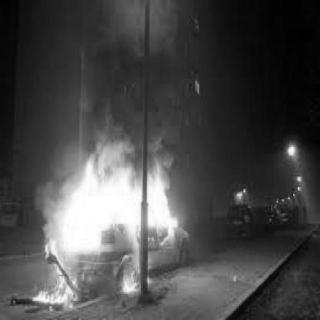Fire: (24, 122, 202, 306)
